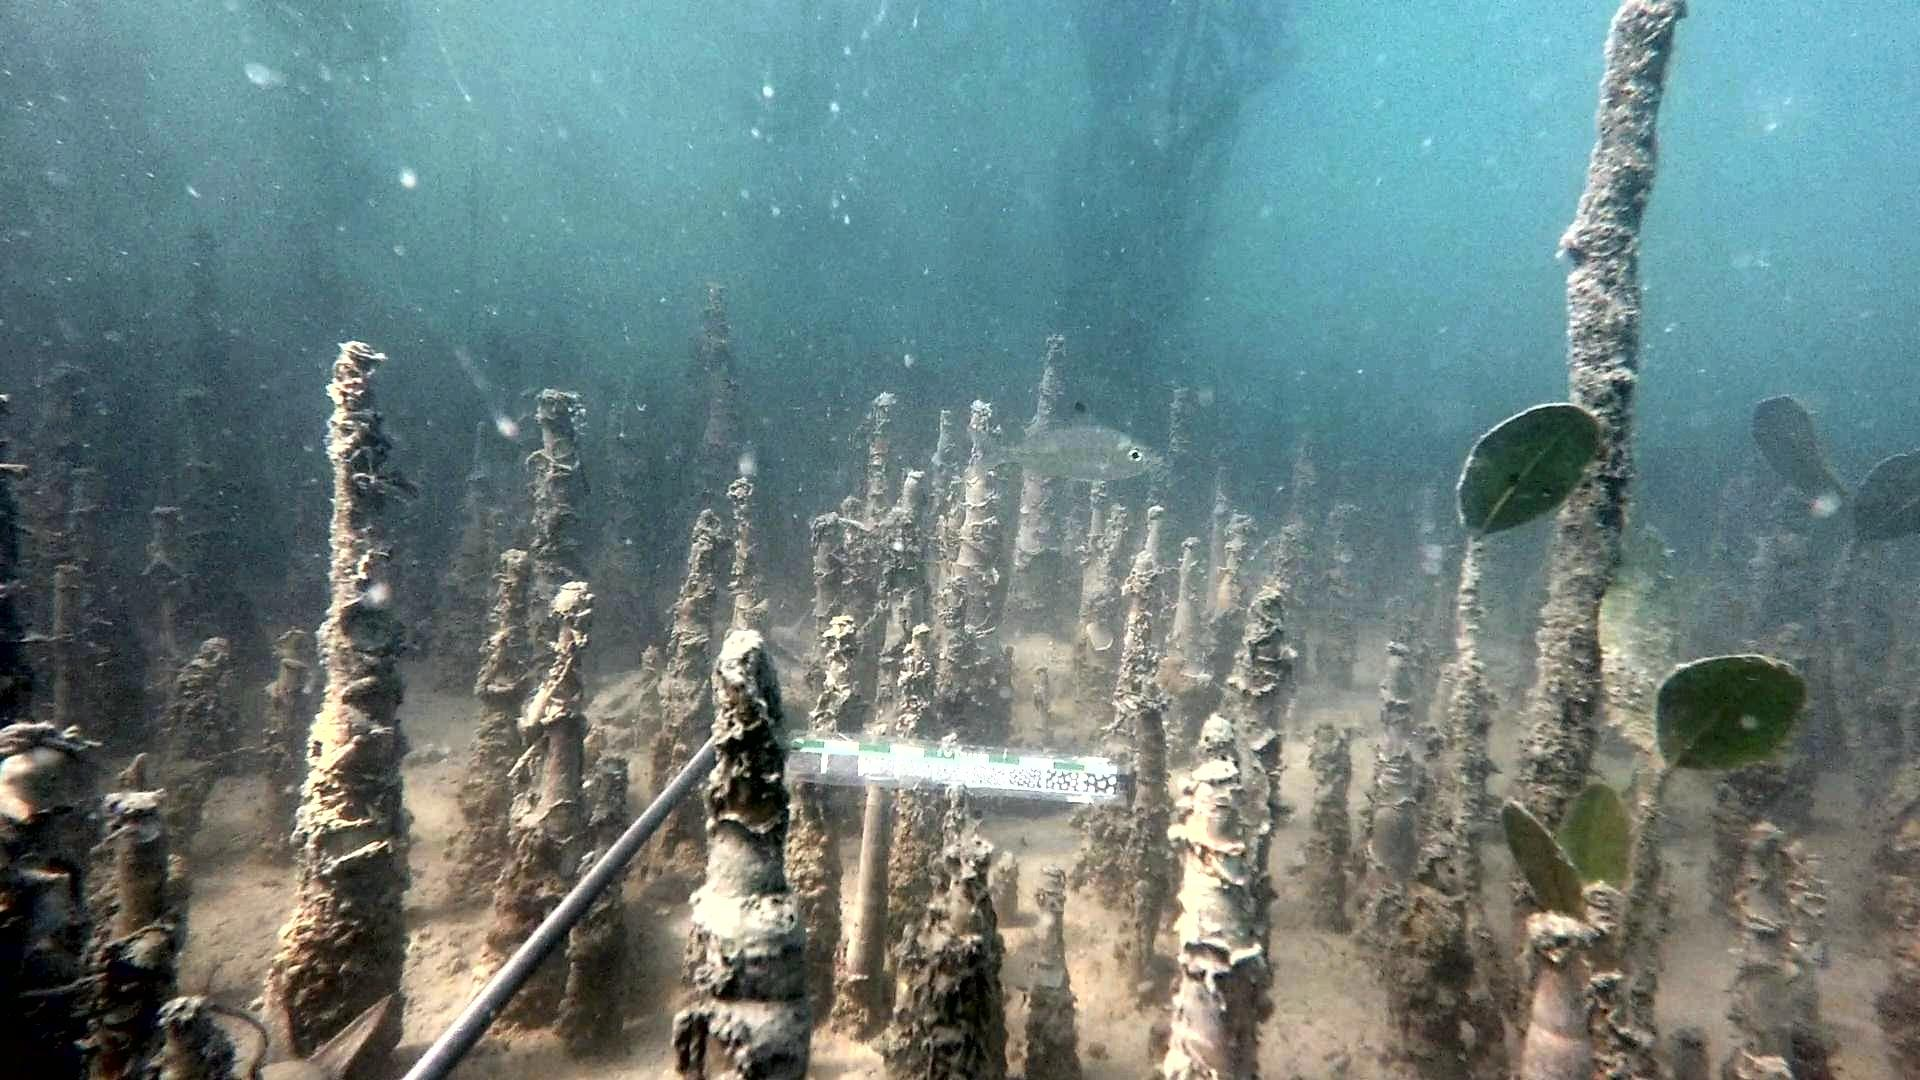gerres: (955, 401, 1164, 488)
